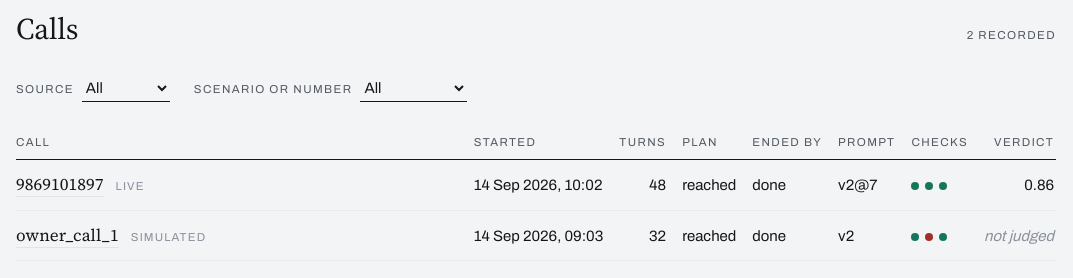
Test: the Calls screen › filters by scenario or number, with the options taken from the whole list
Select "owner_call_1" in the dropdown labelled "Scenario or number" at (414,88), box [360,75,467,102]
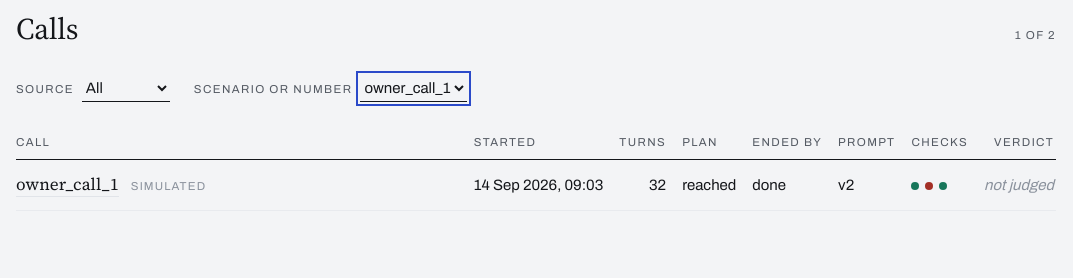
Expected: the text "simulated" is shown, [131,180,206,192]
Expected: the number of rows is 2, [16,134,1056,160]; [16,160,1056,210]
